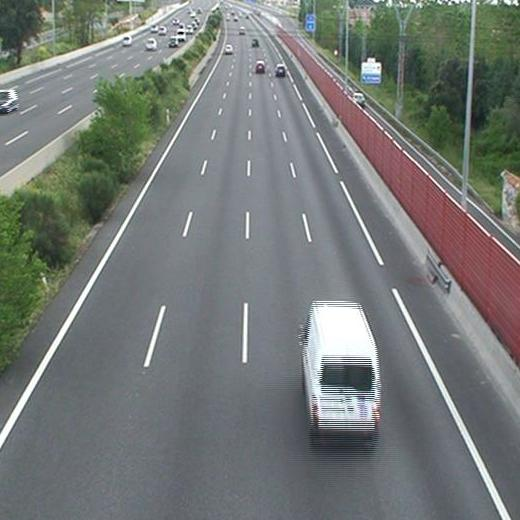car: (276, 64, 286, 76), (224, 45, 233, 55), (255, 62, 263, 72)
van: (301, 303, 379, 438)
